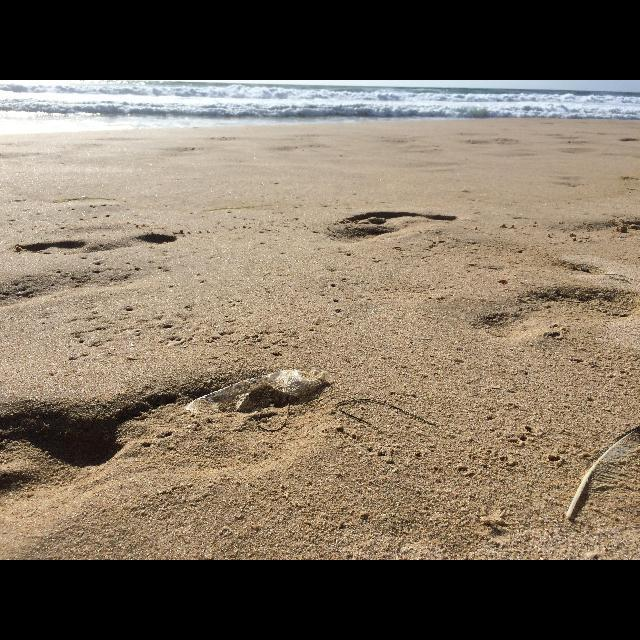Plastic: (185, 368, 325, 412)
